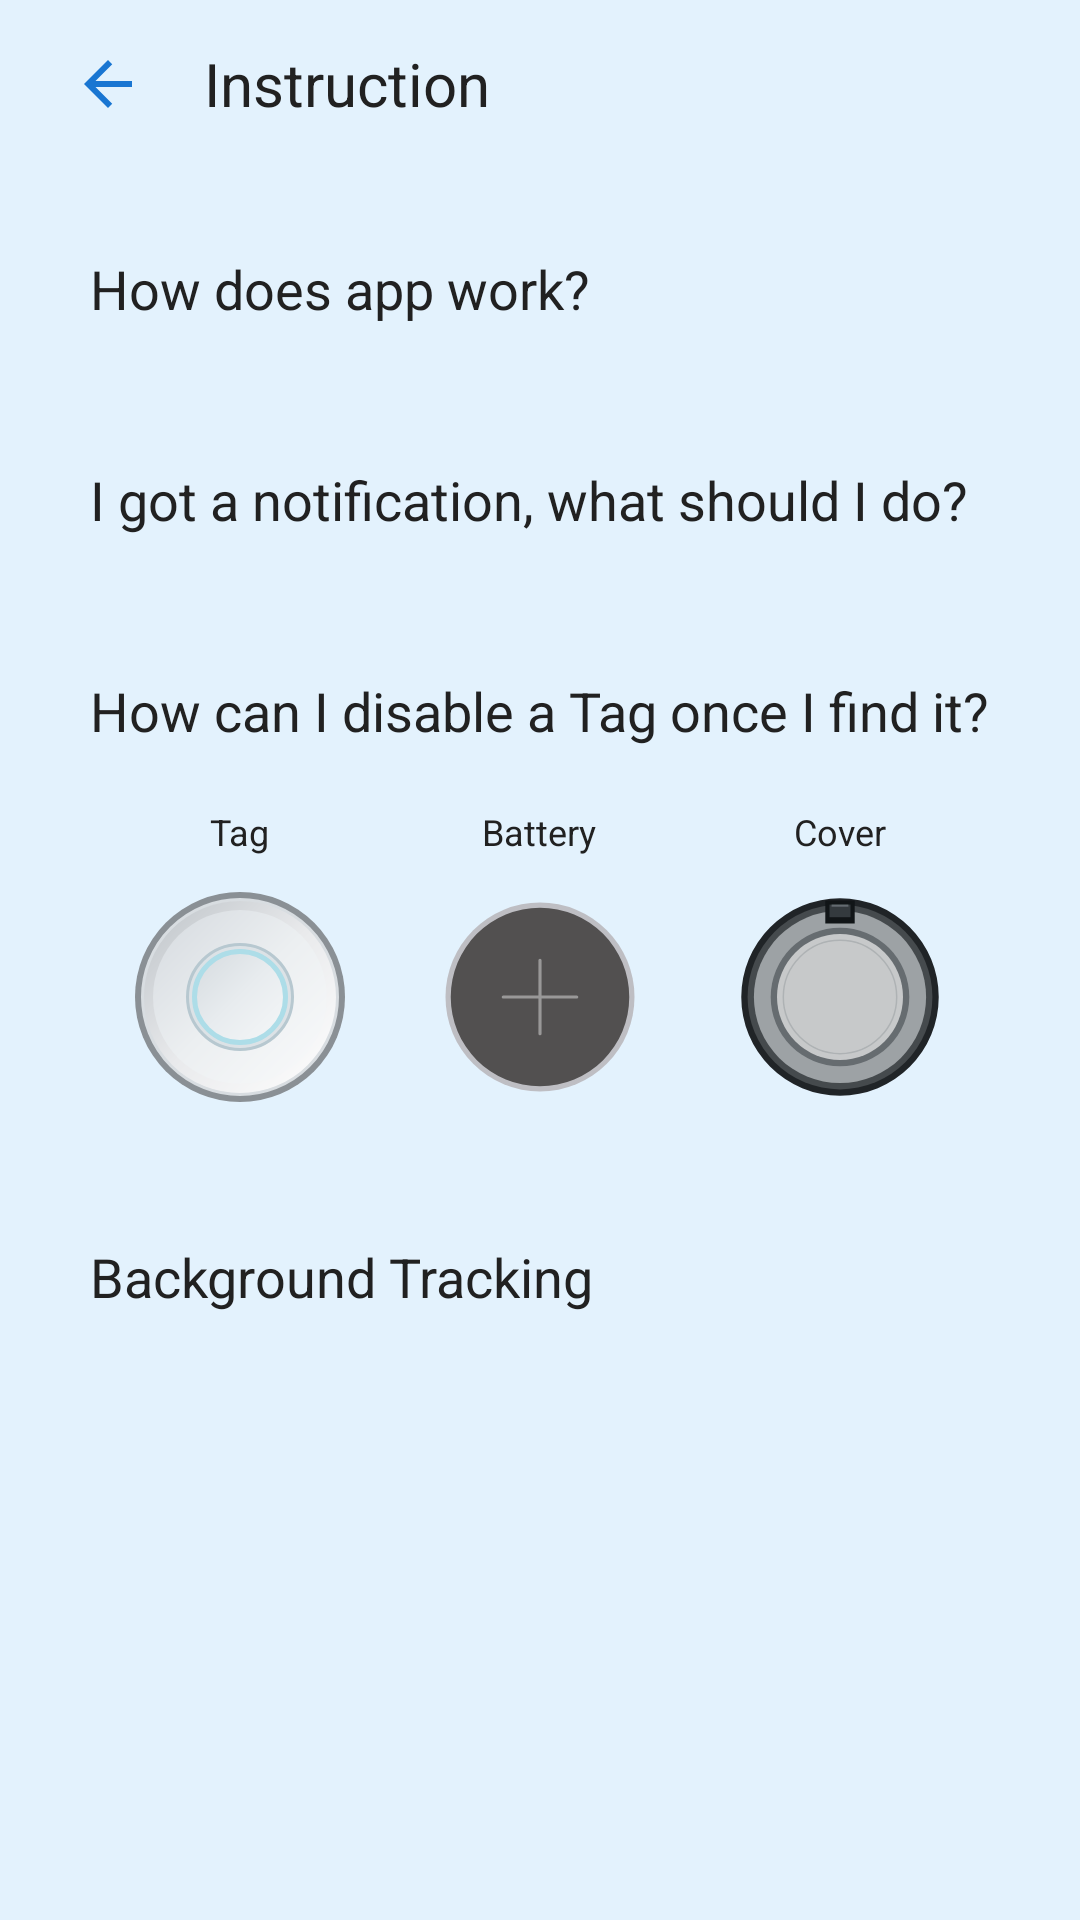

Icon bounding boxes for this 1080 x 1920 phone screenshot, format (x1, y1, x2, y2):
Back: (84, 60, 132, 108)
